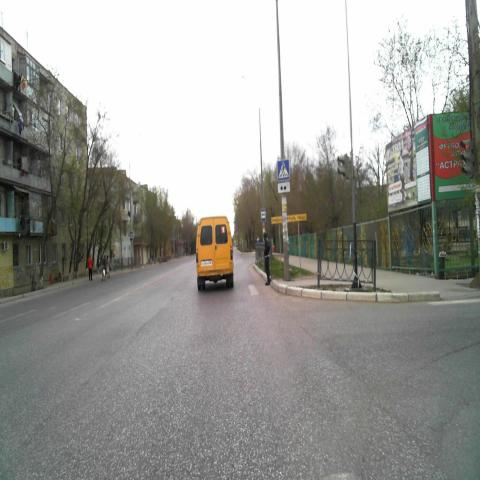5_16: (261, 208, 266, 222)
5_19_1: (277, 160, 289, 181)
8_15: (278, 182, 290, 194)
